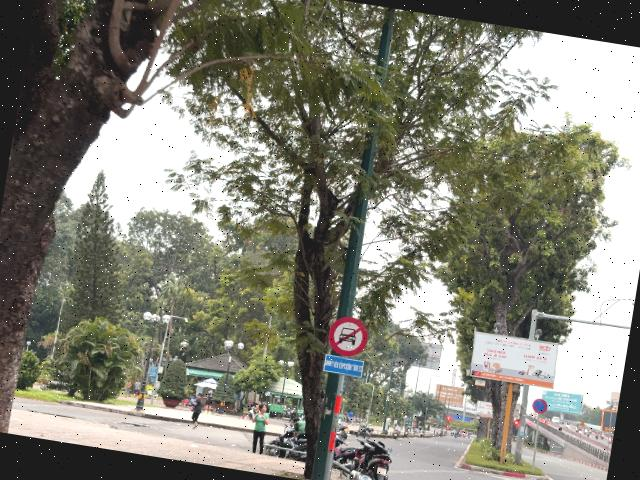cam-o-to: (326, 314, 370, 360)
